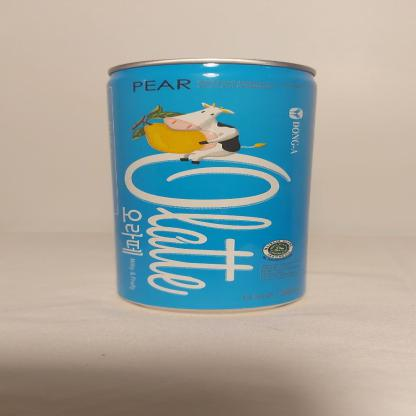bottle: (96, 51, 326, 316)
